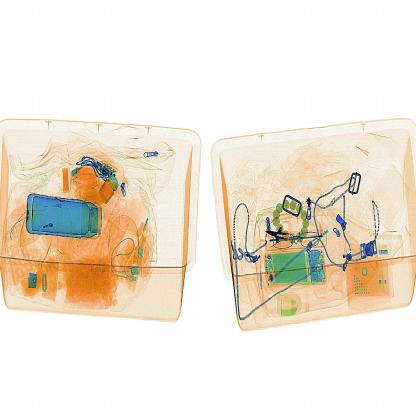gun: (261, 210, 301, 257)
